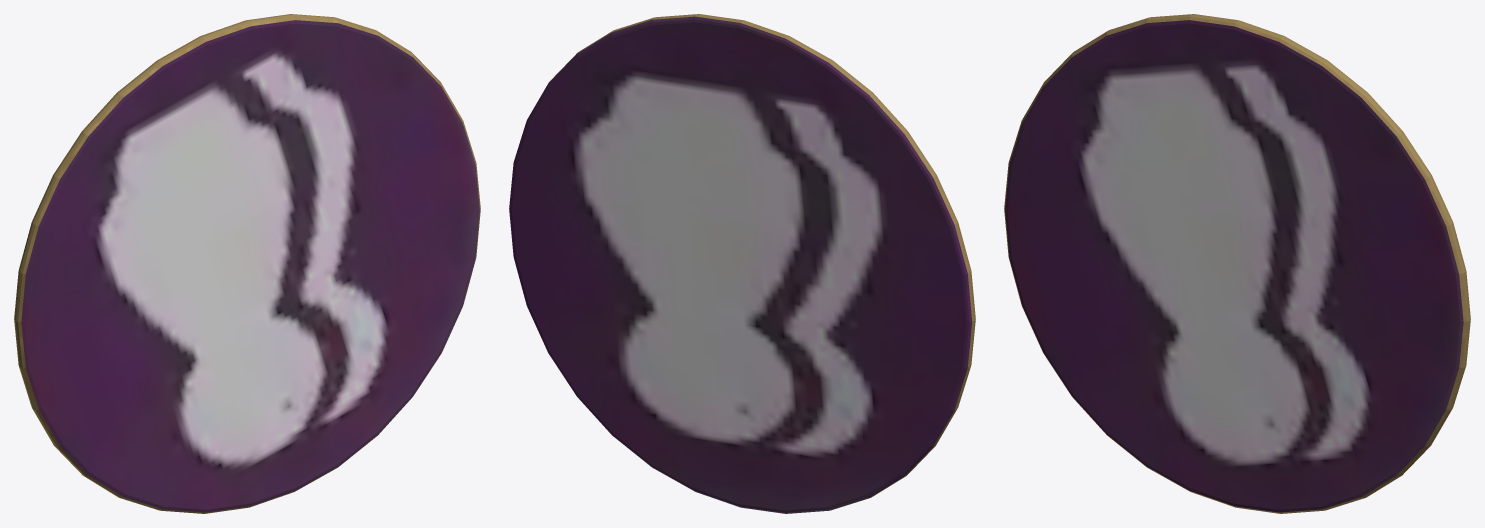
Rendered from Shadow coin.fbx.
The picture shows the model from 3 angles, left to right: view 1: azimuth 30°, elevation 25°; view 2: azimuth 150°, elevation 25°; view 3: azimuth 330°, elevation 25°; orthographic projection.
Parts seen in each view (by area): view 1: Circle.007; view 2: Circle.007; view 3: Circle.007.
Boxes of the visible parts, box(x1,y1,x2,y2) form: Circle.007: box(14, 14, 480, 513); Circle.007: box(509, 14, 975, 513); Circle.007: box(1004, 14, 1470, 513).
Size of the model in its own units: 114 by 114 by 2.92.
Materials: 2 (2 with a texture image).
